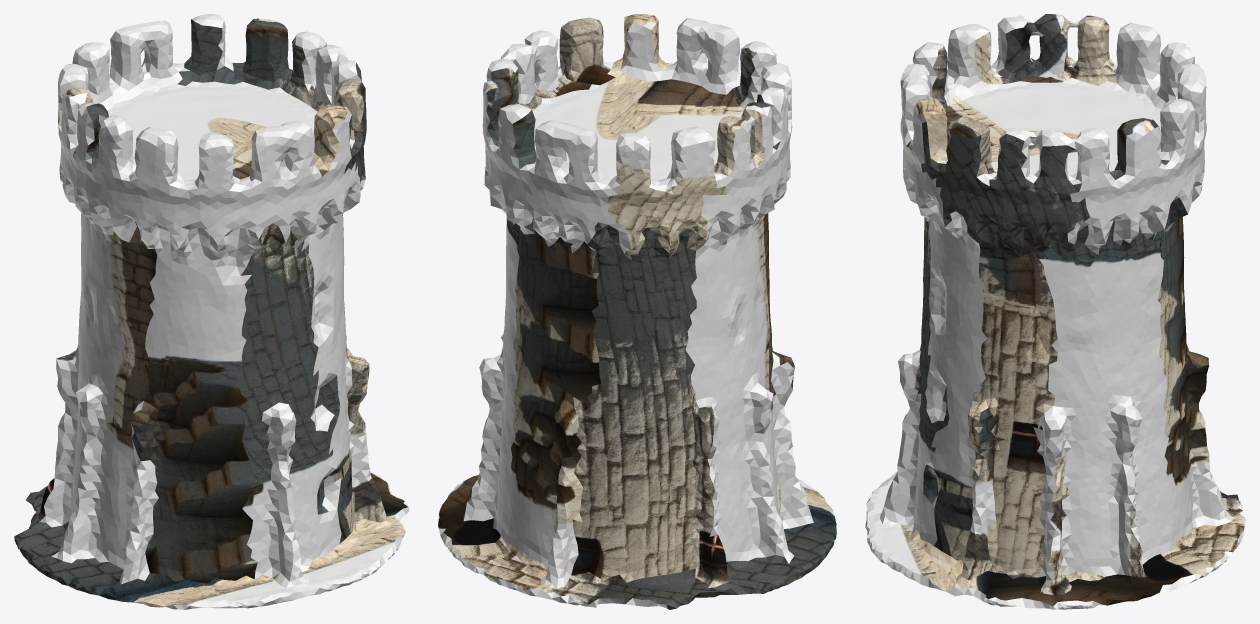
The model's file is guard_tower.glb.
3 views of the same model, side by side, from view 1: azimuth 30°, elevation 25°; view 2: azimuth 150°, elevation 25°; view 3: azimuth 270°, elevation 25° (orthographic).
Parts seen in each view (by area): view 1: world; view 2: world; view 3: world.
Boxes of the visible parts, box(x1,y1,x2,y2) form: world: box(14, 14, 409, 609); world: box(438, 14, 836, 609); world: box(865, 14, 1245, 609).
Bounding box in the file's own units: 1.61 × 2 × 1.52.
Materials: 1 (1 with a texture image).
